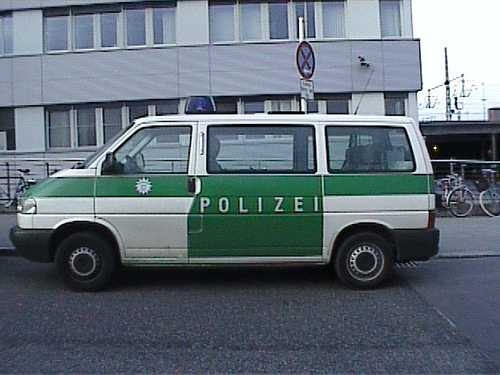Police Van: (2, 98, 482, 306)
